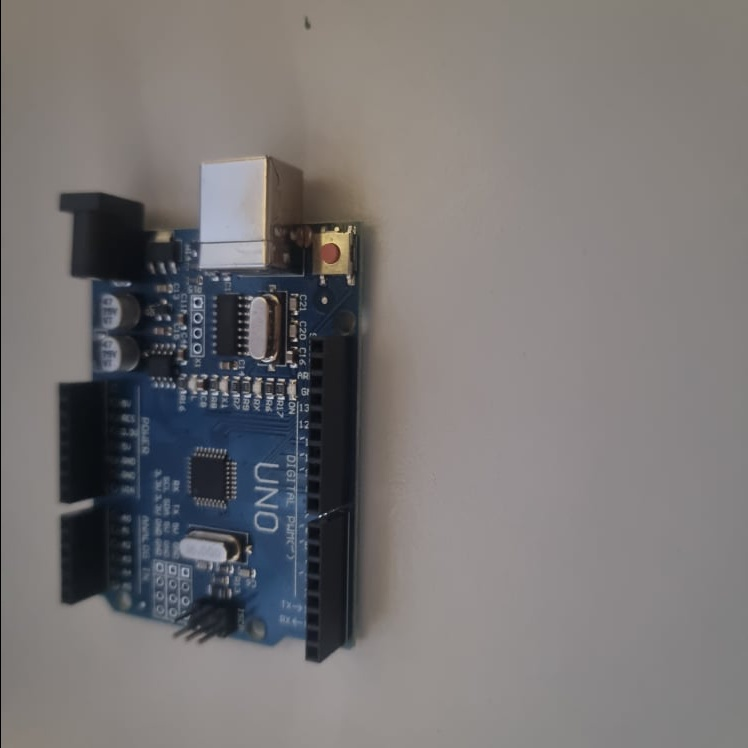UNO R3: (59, 153, 357, 664)
